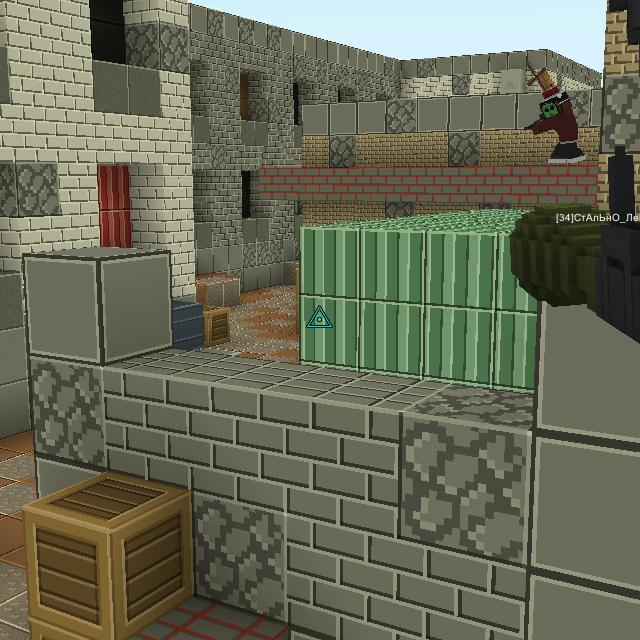enemy: (521, 61, 588, 163)
